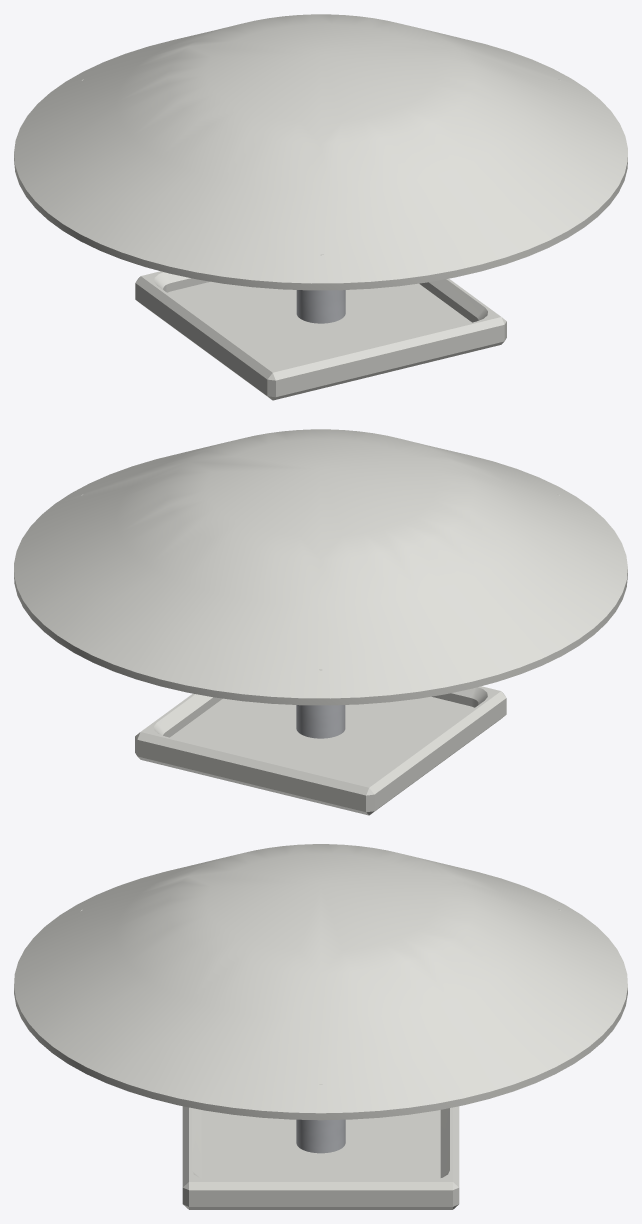
Rendered from ax_power_14_high_gain_dish_m.glb.
3 renders of one model, top to bottom at view 1: azimuth 30°, elevation 25°; view 2: azimuth 150°, elevation 25°; view 3: azimuth 270°, elevation 25°, orthographic.
Parts seen in each view (by area): view 1: dish, gimbal_well, gimbal; view 2: dish, gimbal_well, gimbal; view 3: dish, gimbal_well, gimbal.
Part boxes in pixels (box(x1,y1,x2,y2)): dish: box(14, 14, 627, 290); gimbal_well: box(135, 271, 506, 400); gimbal: box(296, 290, 345, 323); dish: box(14, 429, 627, 705); gimbal_well: box(135, 686, 506, 815); gimbal: box(296, 705, 345, 738); dish: box(14, 844, 627, 1120); gimbal_well: box(182, 1106, 459, 1209); gimbal: box(296, 1119, 345, 1153).
Bounding box in the file's own units: 2 × 0.97 × 2.
Materials: 2 (1 with a texture image).
